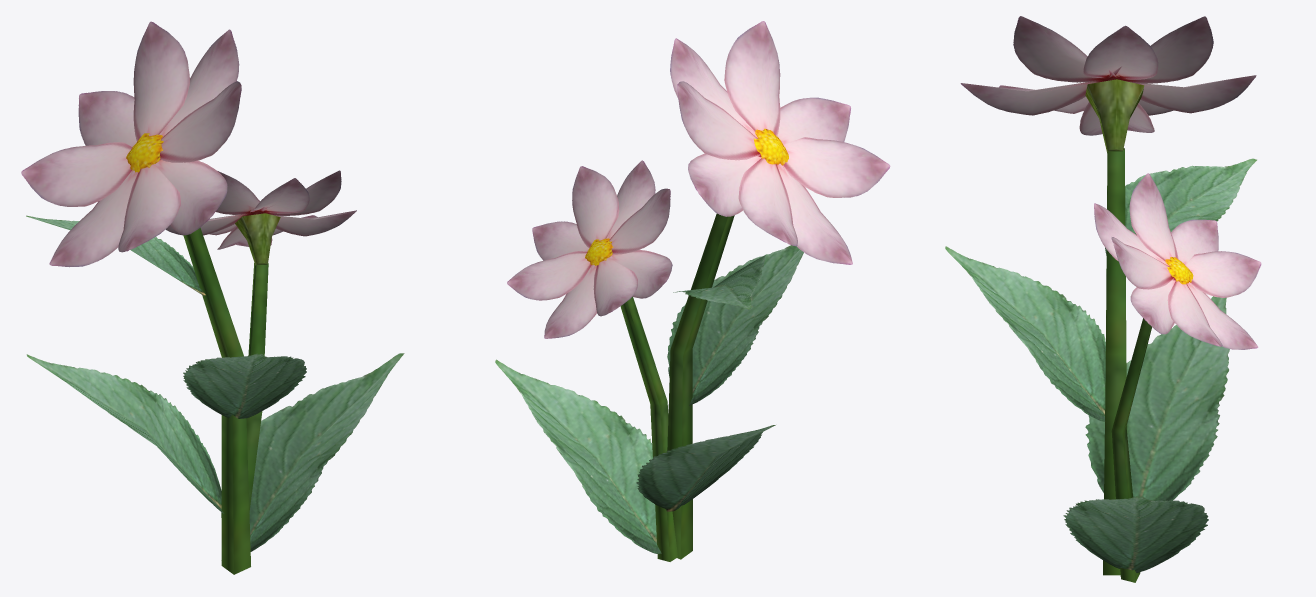
Rendered from whitef4.fbx.
The picture shows the model from 3 angles, left to right: view 1: azimuth 30°, elevation 25°; view 2: azimuth 150°, elevation 25°; view 3: azimuth 270°, elevation 25°; orthographic projection. The views are drawn at different scales.
Parts seen in each view (by area): view 1: whiteflw04; view 2: whiteflw04; view 3: whiteflw04.
Part boxes in pixels (x1=…): whiteflw04: x1=21, y1=21, x2=404, y2=574; whiteflw04: x1=495, y1=21, x2=890, y2=561; whiteflw04: x1=945, y1=16, x2=1261, y2=582.
Bounding box in the file's own units: 23.13 × 32.88 × 20.27.
